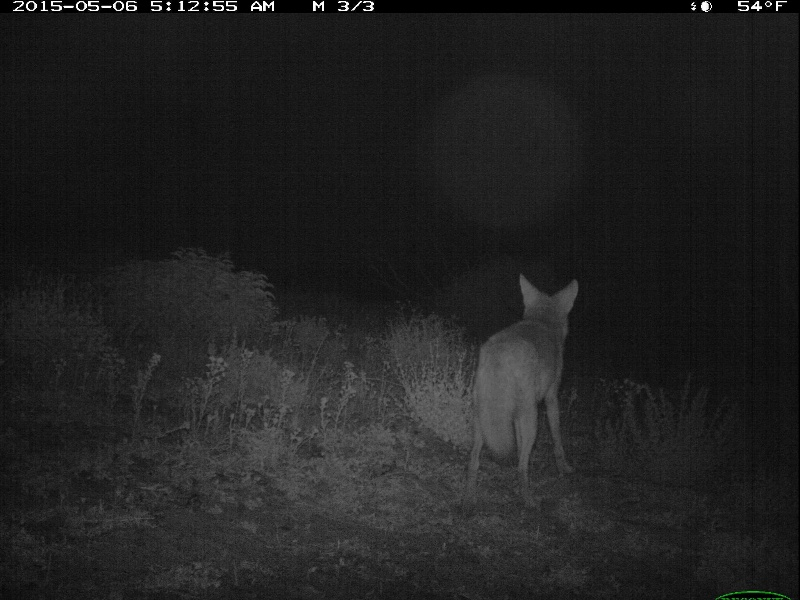coyote: (455, 268, 588, 501)
